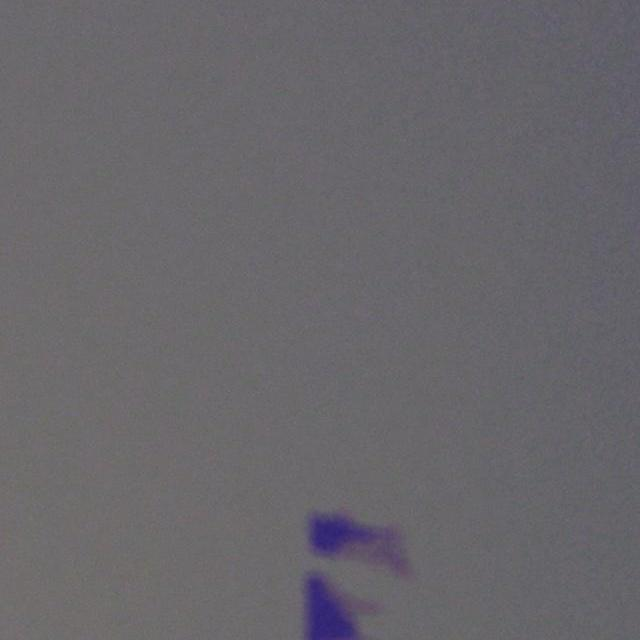monolayer-eWW4: (338, 520, 414, 580)
